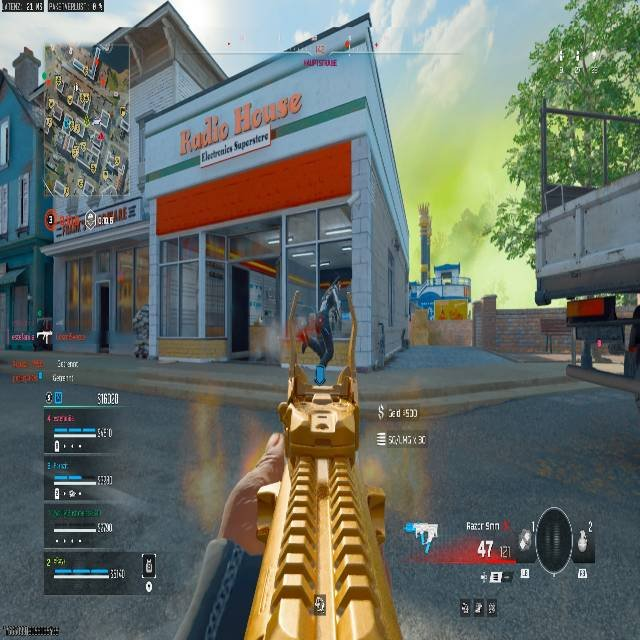player: (298, 276, 347, 368), (130, 304, 150, 358)
